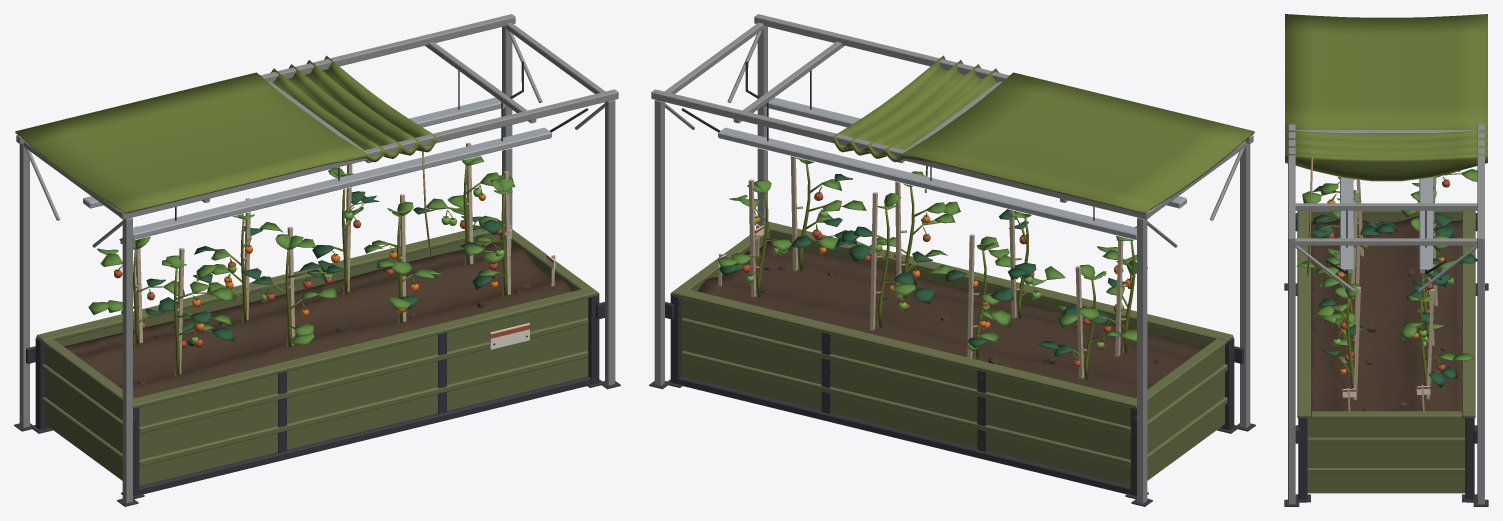
File: deco_grow_lamp_frame_bed.fbx
The picture shows the model from 3 angles, left to right: view 1: azimuth 30°, elevation 25°; view 2: azimuth 150°, elevation 25°; view 3: azimuth 270°, elevation 25°; orthographic projection. The views are drawn at different scales.
Parts seen in each view (by area): view 1: GrowLampFrame_Bed_Frame, GrowLampFrame_Bed_ShadeCloth, GrowLampFrame_Bed_Soil, GrowLampFrame_Bed_LampFrame, GrowLampFrame_Bed_Leaves, GrowLampFrame_Bed_Stems, GrowLampFrame_Bed_GrowLamps, GrowLampFrame_Bed_Fruit, GrowLampFrame_Bed_Tags; view 2: GrowLampFrame_Bed_Frame, GrowLampFrame_Bed_ShadeCloth, GrowLampFrame_Bed_Soil, GrowLampFrame_Bed_LampFrame, GrowLampFrame_Bed_Leaves, GrowLampFrame_Bed_Stems, GrowLampFrame_Bed_GrowLamps, GrowLampFrame_Bed_Fruit; view 3: GrowLampFrame_Bed_ShadeCloth, GrowLampFrame_Bed_Frame, GrowLampFrame_Bed_Soil, GrowLampFrame_Bed_LampFrame, GrowLampFrame_Bed_Leaves, GrowLampFrame_Bed_Stems, GrowLampFrame_Bed_GrowLamps, GrowLampFrame_Bed_Fruit, GrowLampFrame_Bed_Tags.
Part boxes in pixels (x1,y1,x2,y2): GrowLampFrame_Bed_Frame: [31, 228, 603, 499]; GrowLampFrame_Bed_ShadeCloth: [15, 55, 436, 255]; GrowLampFrame_Bed_Soil: [64, 239, 571, 398]; GrowLampFrame_Bed_LampFrame: [14, 14, 620, 506]; GrowLampFrame_Bed_Leaves: [88, 156, 514, 346]; GrowLampFrame_Bed_Stems: [106, 142, 510, 375]; GrowLampFrame_Bed_GrowLamps: [83, 61, 588, 239]; GrowLampFrame_Bed_Fruit: [114, 189, 504, 347]; GrowLampFrame_Bed_Tags: [490, 224, 555, 349]; GrowLampFrame_Bed_Frame: [666, 221, 1238, 499]; GrowLampFrame_Bed_ShadeCloth: [833, 55, 1254, 213]; GrowLampFrame_Bed_Soil: [697, 241, 1204, 398]; GrowLampFrame_Bed_LampFrame: [649, 14, 1255, 506]; GrowLampFrame_Bed_Leaves: [718, 157, 1147, 361]; GrowLampFrame_Bed_Stems: [737, 156, 1135, 380]; GrowLampFrame_Bed_GrowLamps: [681, 61, 1186, 239]; GrowLampFrame_Bed_Fruit: [742, 193, 1134, 367]; GrowLampFrame_Bed_ShadeCloth: [1285, 14, 1487, 275]; GrowLampFrame_Bed_Frame: [1295, 210, 1477, 502]; GrowLampFrame_Bed_Soil: [1311, 215, 1461, 411]; GrowLampFrame_Bed_LampFrame: [1284, 124, 1488, 506]; GrowLampFrame_Bed_Leaves: [1296, 169, 1477, 387]; GrowLampFrame_Bed_Stems: [1315, 173, 1461, 400]; GrowLampFrame_Bed_GrowLamps: [1326, 177, 1446, 274]; GrowLampFrame_Bed_Fruit: [1325, 180, 1453, 383]; GrowLampFrame_Bed_Tags: [1342, 385, 1430, 411].
Bounding box in the file's own units: 426 × 244 × 165.
